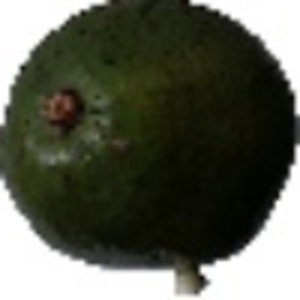abacate: (1, 3, 294, 266)
